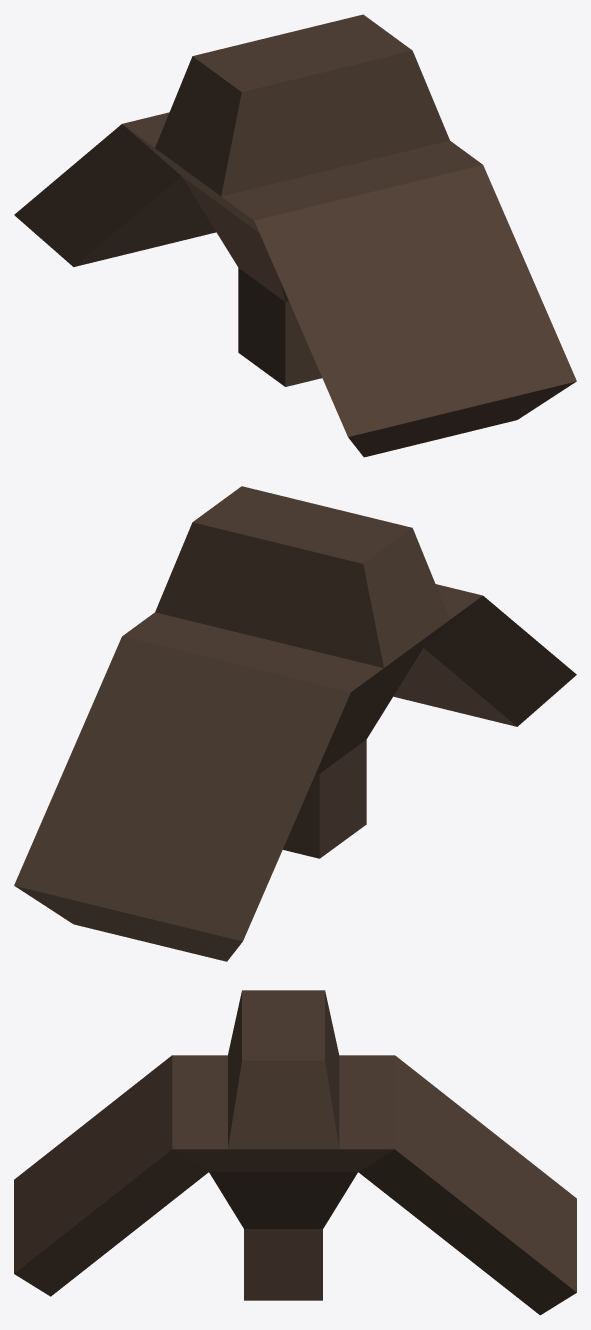
File: Stairs.fbx
3 views of the same model, one above another, from view 1: azimuth 30°, elevation 25°; view 2: azimuth 150°, elevation 25°; view 3: azimuth 270°, elevation 25° (orthographic). The views are drawn at different scales.
Visible parts, largest first — view 1: Cube; view 2: Cube; view 3: Cube.
Part boxes in pixels (x1,y1,x2,y2): Cube: (14, 14, 576, 457); Cube: (14, 486, 576, 961); Cube: (14, 990, 576, 1315).
Size of the model in its own units: 139 by 178 by 351.
Materials: 1 (1 with a texture image).
